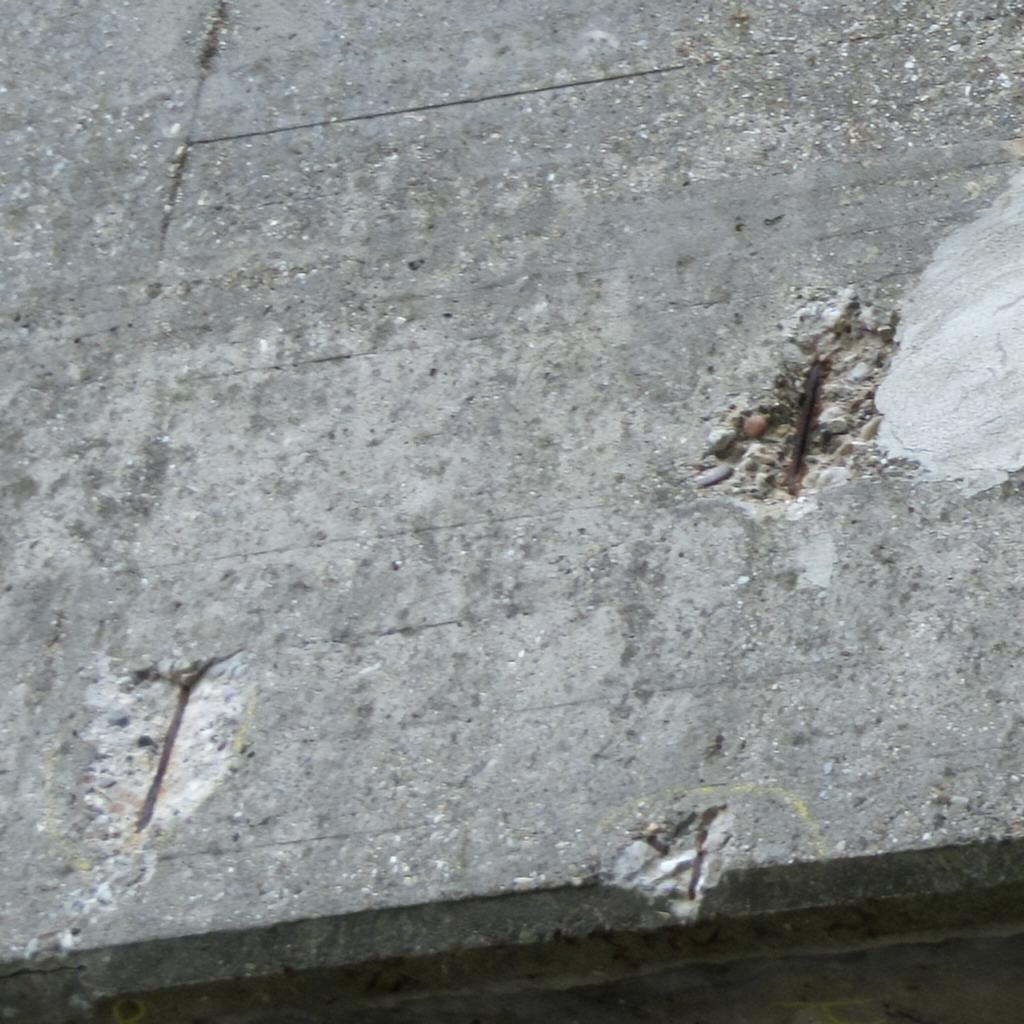exposed_rebar: (136, 682, 193, 831), (786, 356, 830, 495)
spalling: (694, 288, 898, 501), (84, 652, 256, 853), (612, 806, 732, 918)
